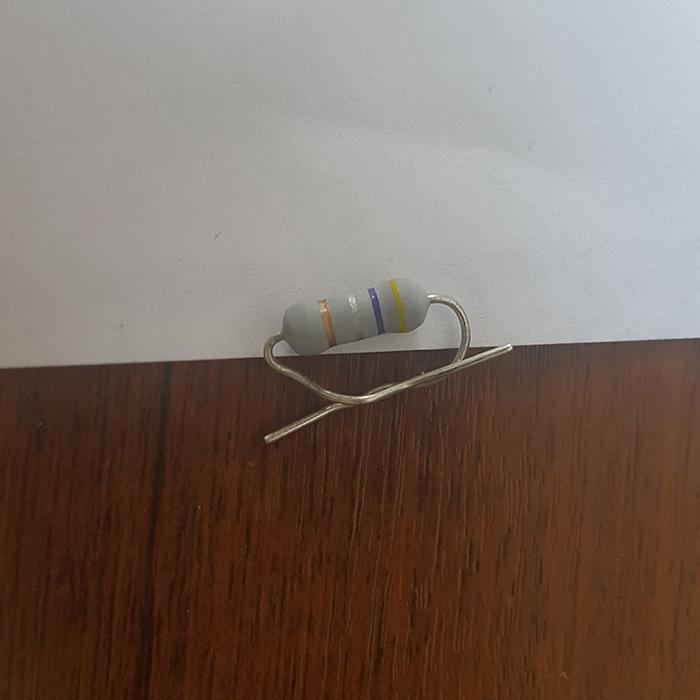resistor: (278, 275, 436, 355)
